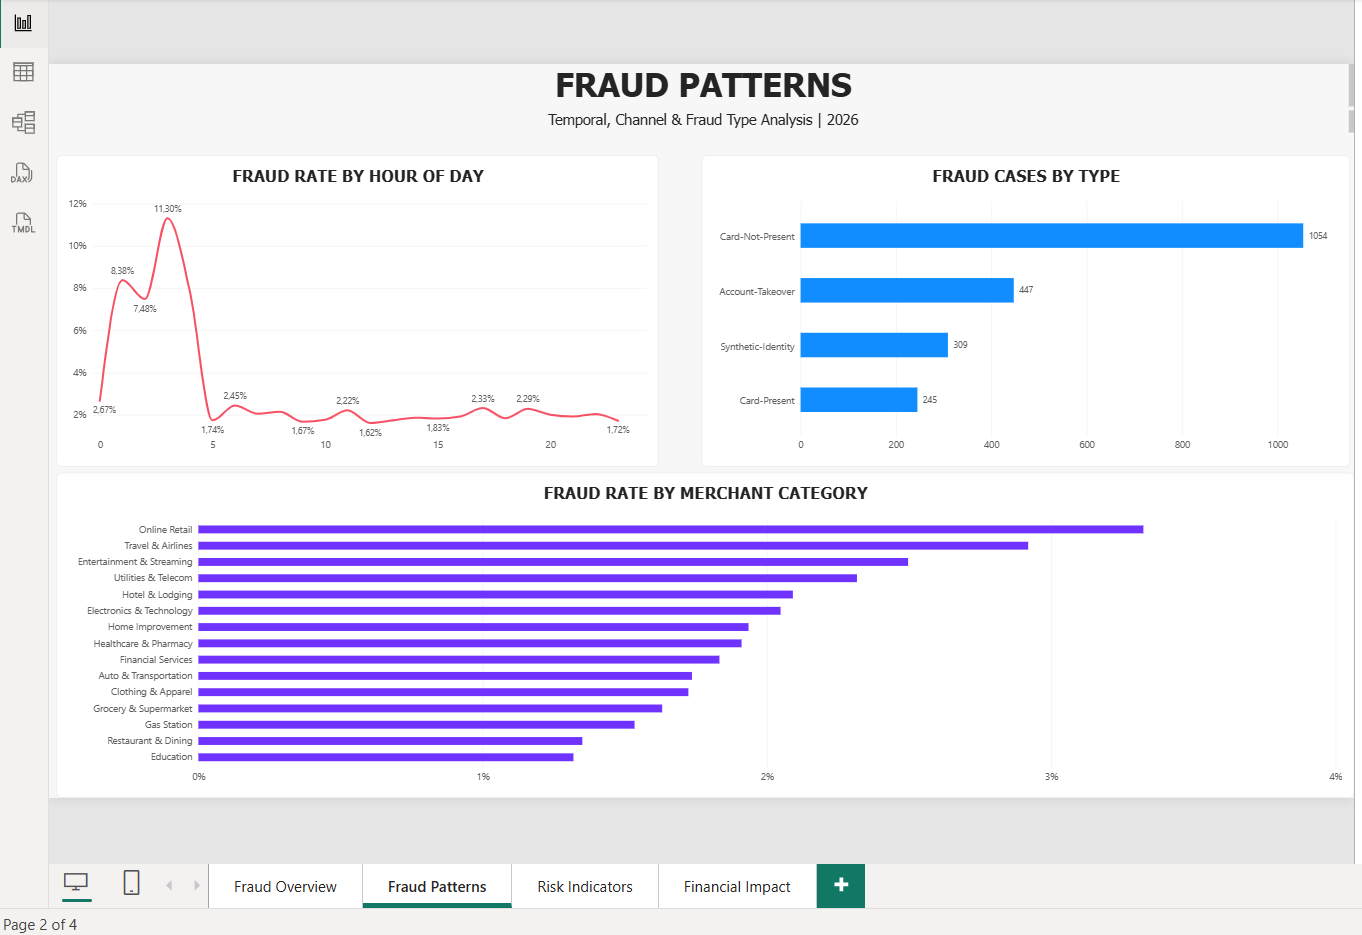

The page's visual inventory and layout, read from the dashboard file:
{"tool":"powerbi","page":{"name":"Fraud Patterns","canvas":[1920,1080],"ordinal":1},"visuals":[{"type":"textbox","box":[10.6,0,1909.8,68.8],"z":0},{"type":"textbox","box":[10.6,68.8,1909.8,38.8],"z":1},{"type":"lineChart","title":"FRAUD RATE BY HOUR OF DAY","fields":{"Category":["Transactions.transaction_hour"],"Y":["Transactions.Fraud Rate"]},"box":[11,134.3,886.6,458],"z":2},{"type":"barChart","title":"FRAUD CASES BY TYPE","fields":{"Category":["Transactions.fraud_type"],"Y":["Transactions.Fraudulent Transactions"]},"box":[960.2,134.3,954.7,458],"z":3},{"type":"barChart","title":"FRAUD RATE BY MERCHANT CATEGORY","fields":{"Category":["Transactions.merchant_category"],"Y":["Transactions.Fraud Rate"]},"box":[11,601.5,1909.3,478.3],"z":4}]}

Visuals, with their boxes on the page's 1920x1080 design canvas (x1, y1, x2, y2). These are canvas units, not pixel positions in the 1362x935 screenshot, which may show the page scaled, cropped or inside an application window:
textbox: x1=11, y1=0, x2=1920, y2=69
textbox: x1=11, y1=69, x2=1920, y2=108
"FRAUD RATE BY HOUR OF DAY" lineChart: x1=11, y1=134, x2=898, y2=592
"FRAUD CASES BY TYPE" barChart: x1=960, y1=134, x2=1915, y2=592
"FRAUD RATE BY MERCHANT CATEGORY" barChart: x1=11, y1=602, x2=1920, y2=1080
